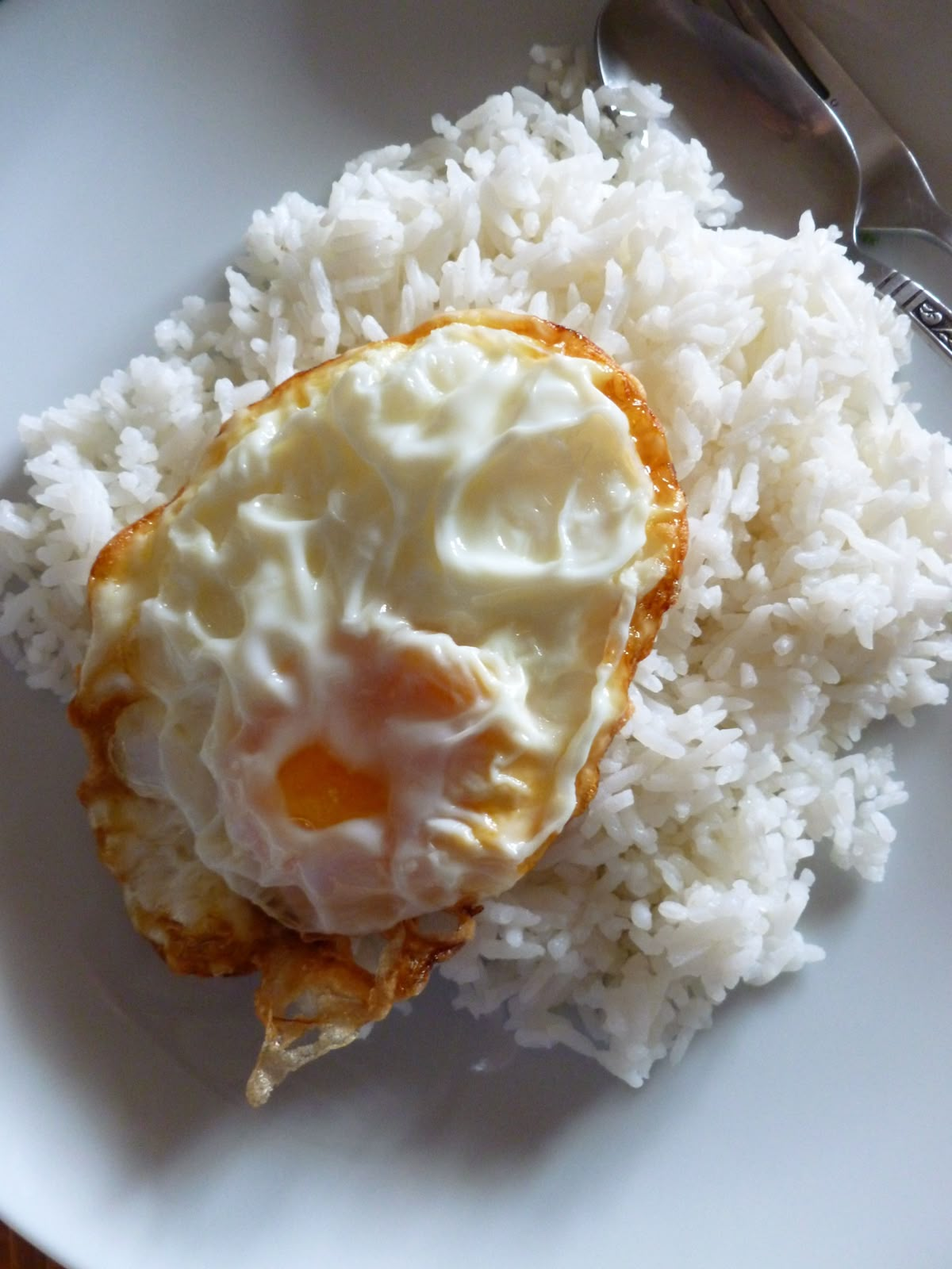makanan_berpati: (680, 280, 872, 852)
telur: (204, 448, 509, 898)
